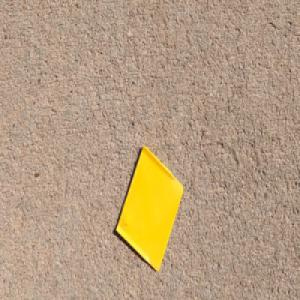PlasticPart: (115, 142, 184, 273)
